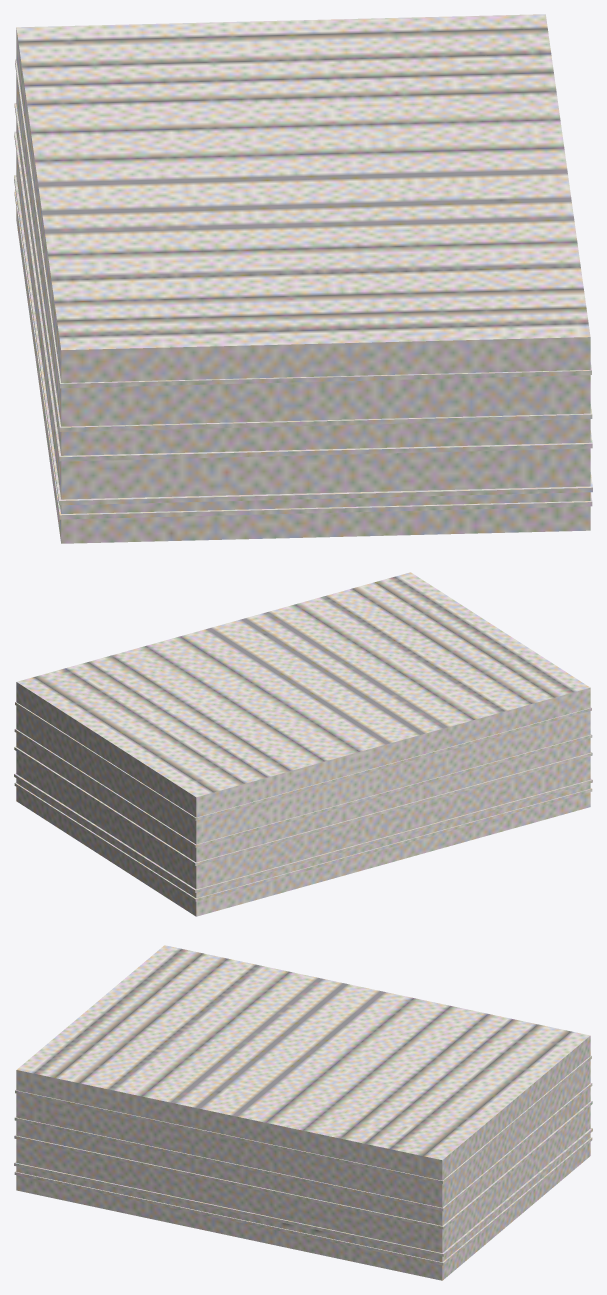
Rendered from Paper_Stack_01.fbx.
The picture shows the model from 3 angles, top to bottom: view 1: azimuth 30°, elevation 25°; view 2: azimuth 150°, elevation 25°; view 3: azimuth 270°, elevation 25°; orthographic projection. The views are drawn at different scales.
Visible parts, largest first — view 1: pCube9; view 2: pCube9; view 3: pCube9.
Boxes of the visible parts, x1,y1,x2,y2 form: pCube9: (14, 14, 592, 543); pCube9: (14, 572, 592, 916); pCube9: (14, 945, 592, 1280).
Bounding box in the file's own units: 51.3 × 13.3 × 57.87.
Materials: 1 (1 with a texture image).
